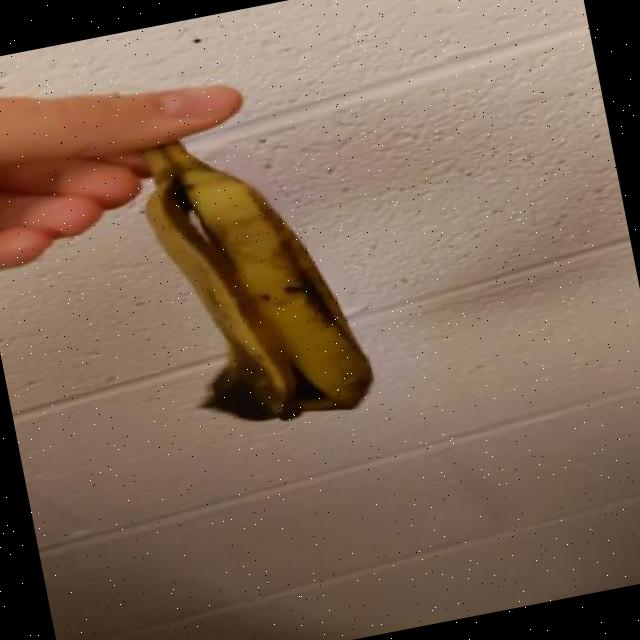banana-peel: (129, 109, 380, 442)
